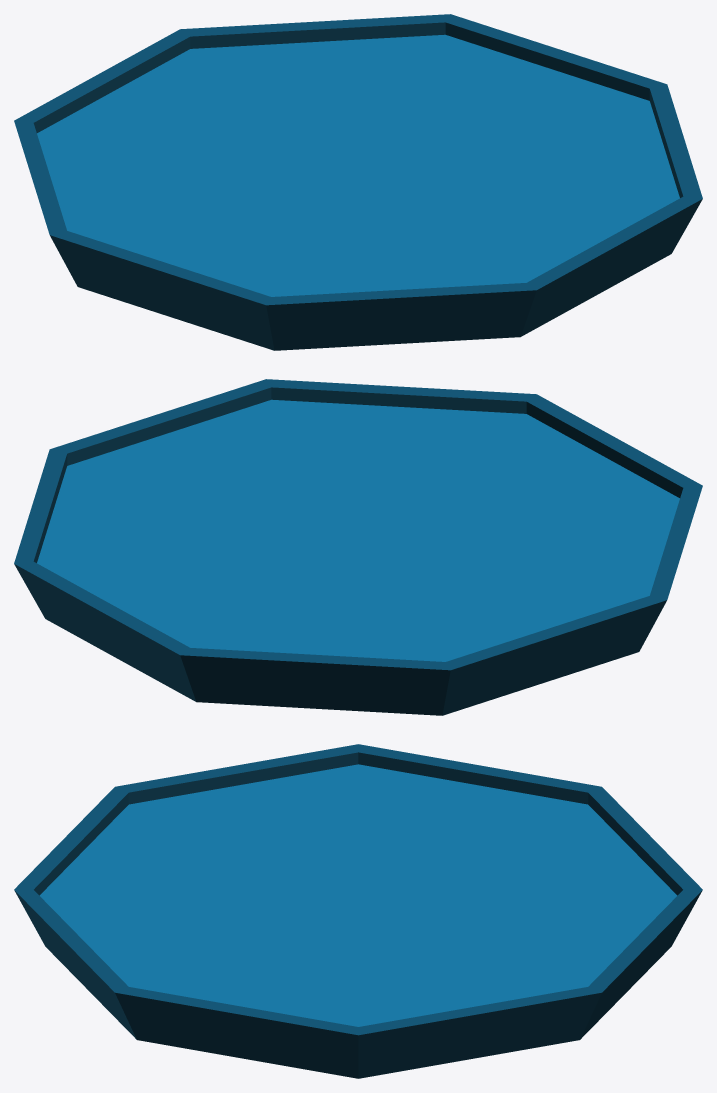
File: platform_type_01.fbx
The picture shows the model from 3 angles, top to bottom: view 1: azimuth 30°, elevation 25°; view 2: azimuth 150°, elevation 25°; view 3: azimuth 270°, elevation 25°; orthographic projection. The views are drawn at different scales.
Parts seen in each view (by area): view 1: platform_type_01; view 2: platform_type_01; view 3: platform_type_01.
Part boxes in pixels (left/top/right/bottom): platform_type_01: left=14, top=14, right=702, bottom=350; platform_type_01: left=14, top=379, right=702, bottom=715; platform_type_01: left=14, top=744, right=702, bottom=1078.
Size of the model in its own units: 198 by 18 by 198.
